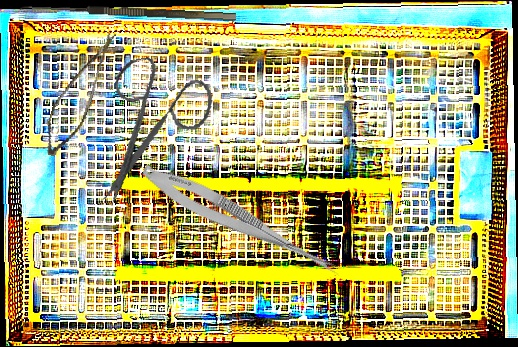Hook Surgical: (19, 1, 236, 33)
Iris Scissors: (76, 46, 229, 208)
Micro Scissor: (136, 158, 349, 283), (39, 21, 117, 164)
